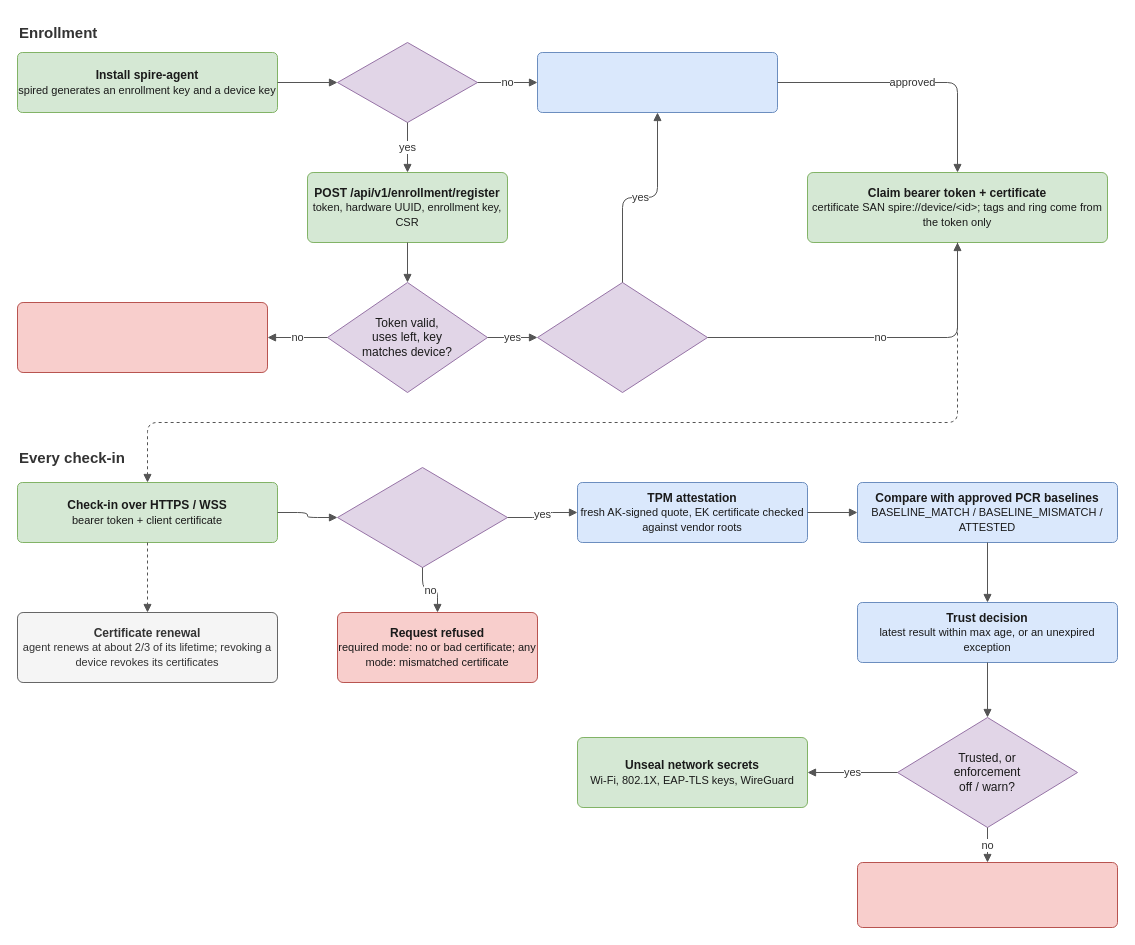
The diagram is 1135 pixels wide and 945 high, and some of its shapes have lost their labels. Here are the shapes that lost their labels. From the top down, the centre of each, then its label:
At pixel 407 82: "Enrollment token?".
At pixel 657 82: "Stage PENDING_APPROVAL an administrator approves".
At pixel 142 337: "Refused uniform 401, rate-limited per IP, reason kept in token history".
At pixel 622 337: "Needs approval, or device was revoked/rejected?".
At pixel 422 517: "Token and certificate valid for this device?".
At pixel 987 895: "Withhold secrets policy marked secrets_withheld; agent keeps any working profile".
